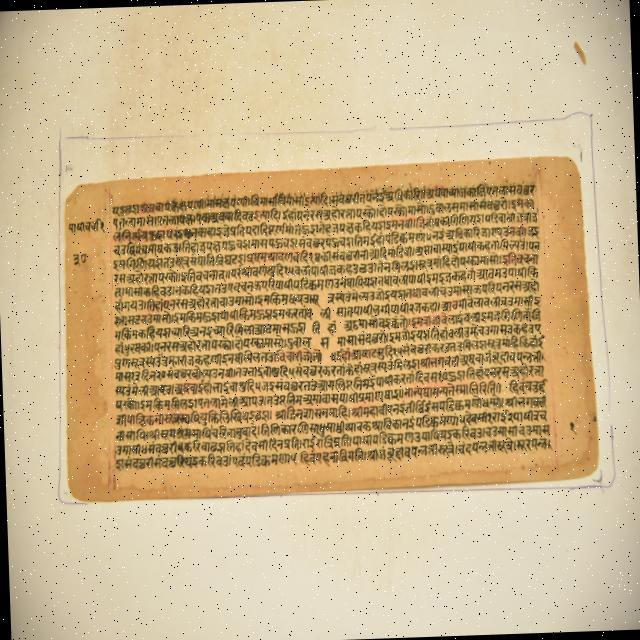text_paragraph: (64, 156, 597, 494)
